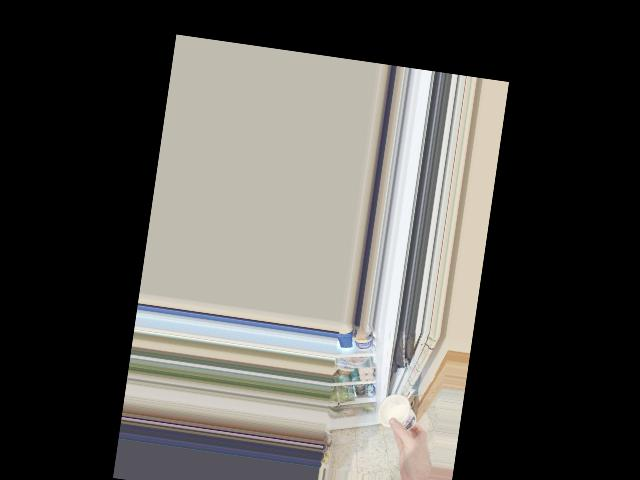cotage: (376, 389, 422, 435)
